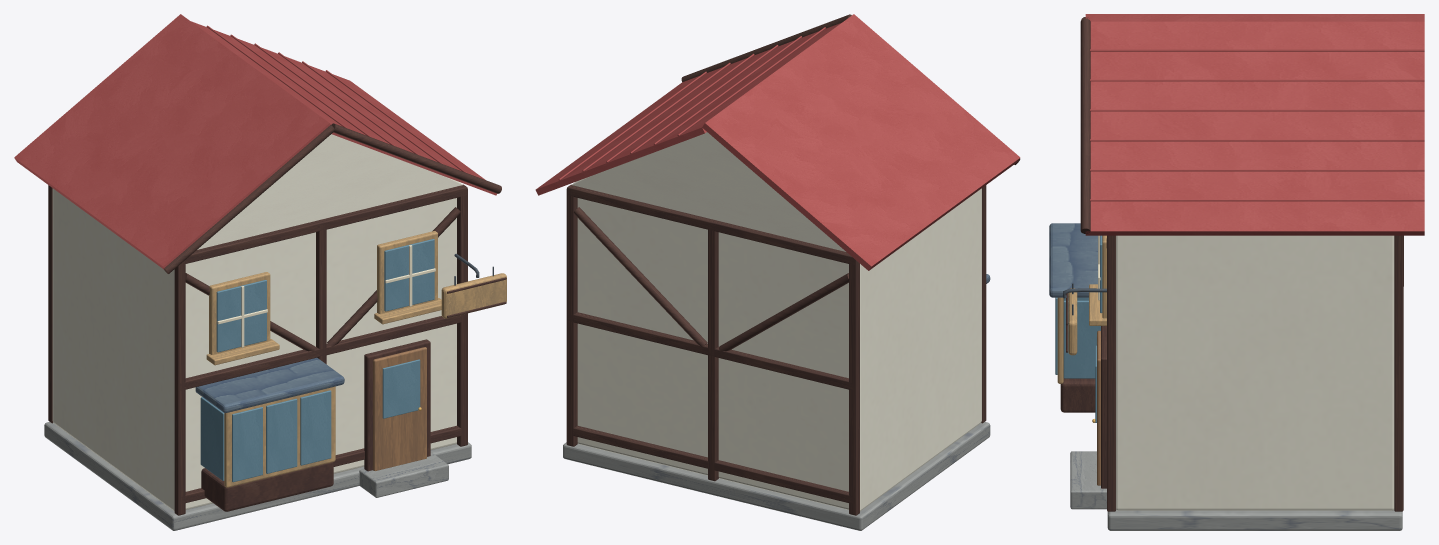
File: house_4.glb
3 renders of one model, left to right at view 1: azimuth 30°, elevation 25°; view 2: azimuth 150°, elevation 25°; view 3: azimuth 270°, elevation 25°, orthographic. The views are drawn at different scales.
Visible parts, largest first — view 1: house_4; view 2: house_4; view 3: house_4.
Boxes of the visible parts, x1=… form: house_4: x1=14, y1=14, x2=506, y2=530; house_4: x1=535, y1=14, x2=1020, y2=530; house_4: x1=1049, y1=14, x2=1424, y2=530.
Size of the model in its own units: 5.84 by 6.29 by 4.94.
3 materials, 3 textured.
